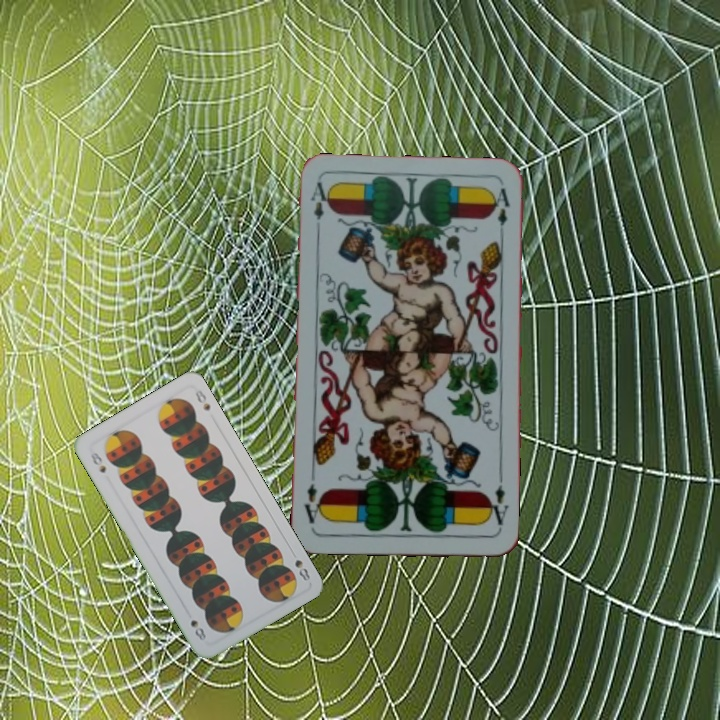EA: (483, 473, 511, 532), (306, 178, 333, 237)
S8: (287, 546, 313, 583), (86, 448, 109, 476)
